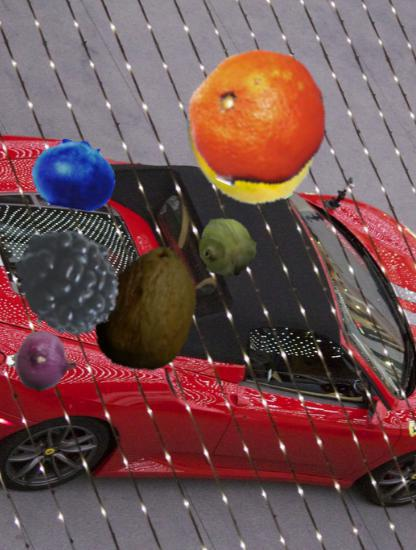Clementine: (185, 46, 330, 191)
Huckleberry: (32, 132, 117, 217)
Kohlrabi: (195, 215, 258, 278)
Maracuja: (188, 67, 326, 205)
Mulberry: (14, 208, 158, 352)
Onion: (6, 325, 79, 398)
Papaya: (84, 244, 216, 376)
